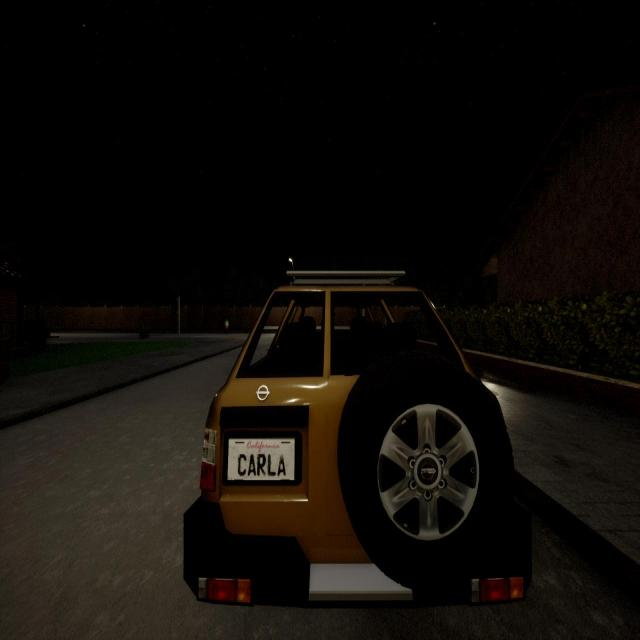Vehicle: (184, 272, 530, 604)
